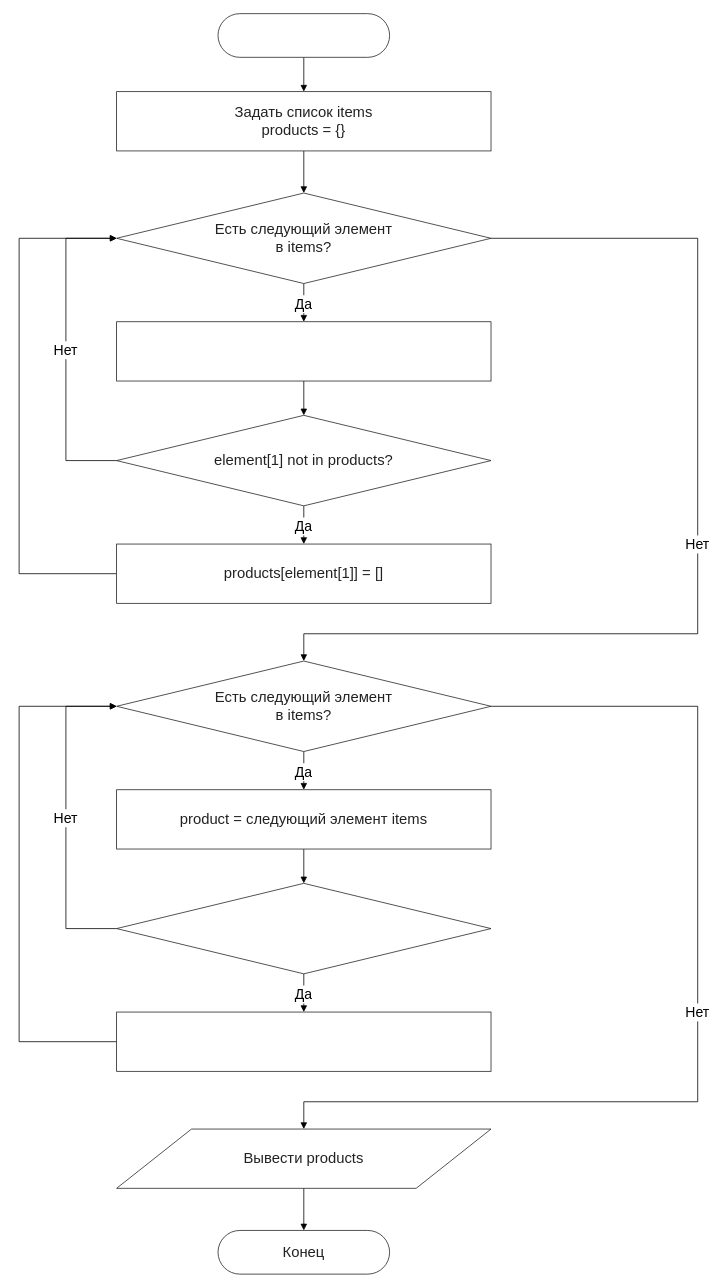
Image size: 724x1288. Some labels were removed from this diagram. Each missing label, with the centre of its shape:
element = следующий элемент items: point (303, 351)
product[1] in products?: point (303, 928)
products[product[1]].append(product[0]): point (303, 1041)
Начало: point (303, 35)
